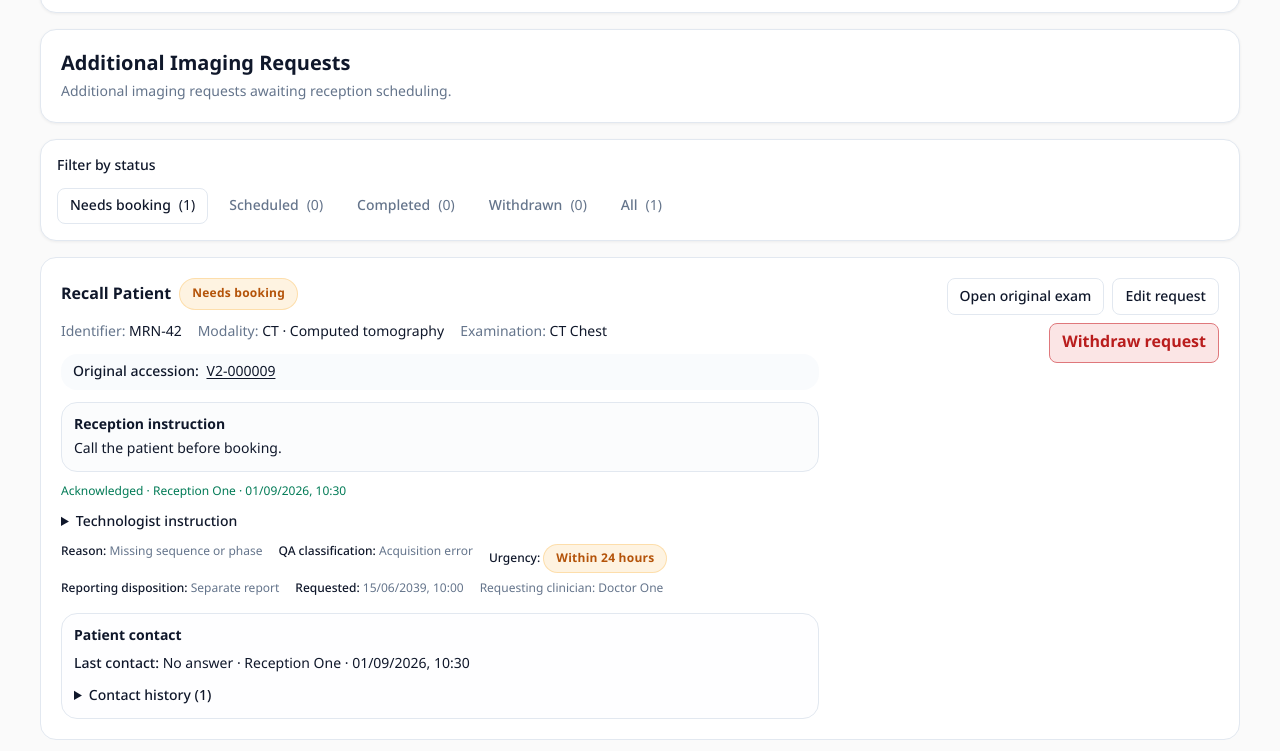
Test: Recall Requests metadata › shows contact history read-only for doctors and renders newest contact details
Click the heading "Contact history (1)".
click(150, 696)  # box [89,681,211,710]
(page scrolled)
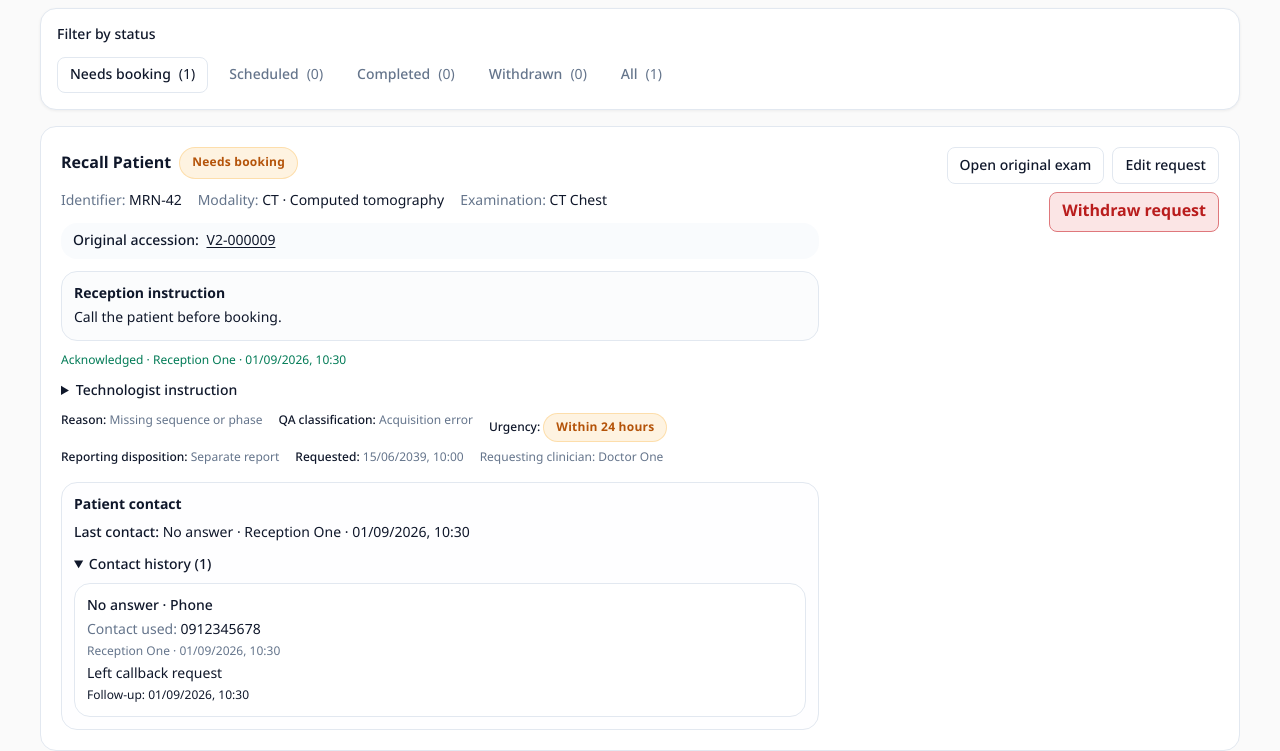
Expected: the text "0912345678" is shown, [181,615,261,644]
